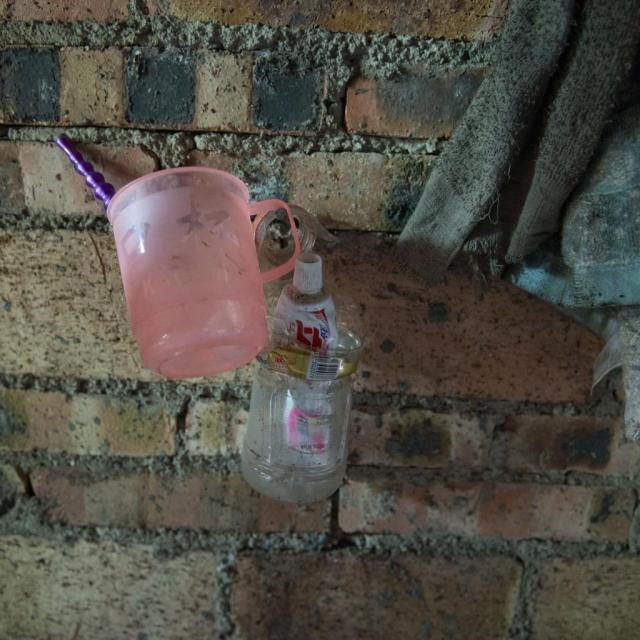Toothpaste: (264, 248, 339, 466)
